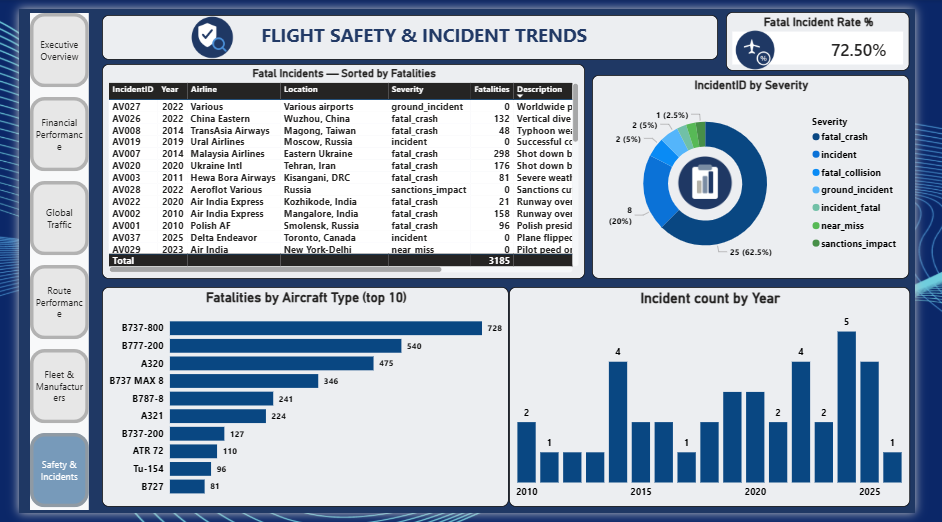

What the dashboard file says about the page in this screenshot:
{"tool":"powerbi","page":{"name":"Safety & Incidents","canvas":[1280,720],"ordinal":5},"visuals":[{"type":"clusteredColumnChart","title":"Incident count by Year","fields":{"Category":["Fact_Incidents7.Date.Variation.Date Hierarchy.Year"],"Y":["CountNonNull(Fact_Incidents7.IncidentID)"]},"box":[700,397.1,572.9,314.3],"z":0},{"type":"clusteredBarChart","title":"Fatalities by Aircraft Type (top 10)","fields":{"Category":["Fact_Incidents7.AircraftType"],"Y":["Sum(Fact_Incidents7.Fatalities)"]},"box":[118.6,397.1,581.4,314.3],"z":1000},{"type":"donutChart","title":"IncidentID by Severity","fields":{"Category":["Fact_Incidents7.Severity"],"Y":["CountNonNull(Fact_Incidents7.IncidentID)"]},"box":[819.2,93.8,453.3,291.1],"z":2000},{"type":"cardVisual","title":"Fatal Incident Rate %","fields":{"Data":["Fact_Incidents7.Fatal Incident Rate %"]},"box":[1010,4.8,262.5,84.3],"z":3000},{"type":"tableEx","title":"Fatal Incidents — Sorted by Fatalities","fields":{"Values":["Fact_Incidents7.IncidentID","Fact_Incidents7.Date.Variation.Date Hierarchy.Year","Fact_Incidents7.Airline","Fact_Incidents7.Location","Fact_Incidents7.Severity","Sum(Fact_Incidents7.Fatalities)","Fact_Incidents7.Description"]},"box":[118.6,78.6,690,307.1],"z":4000},{"type":"textbox","box":[118.6,8.6,880,64.3],"z":5000},{"type":"image","box":[1005.3,28.6,92.3,60.4],"z":6000},{"type":"image","box":[227.1,8.6,98.6,64.3],"z":7000},{"type":"image","box":[938.5,202,82.7,93.8],"z":8000},{"type":"pageNavigator","box":[15.7,5.7,84.3,710],"z":8001}]}

Visuals, with their boxes in screenshot pixels (x1, y1, x2, y2), scaled from the page's 1280x720 canvas onto the 942x522 screenshot:
"Incident count by Year" clusteredColumnChart: 515, 288, 937, 516
"Fatalities by Aircraft Type (top 10)" clusteredBarChart: 87, 288, 515, 516
"IncidentID by Severity" donutChart: 603, 68, 936, 279
"Fatal Incident Rate %" cardVisual: 743, 3, 936, 65
"Fatal Incidents — Sorted by Fatalities" tableEx: 87, 57, 595, 280
textbox: 87, 6, 735, 53
image: 740, 21, 808, 65
image: 167, 6, 240, 53
image: 691, 146, 752, 214
pageNavigator: 12, 4, 74, 519
